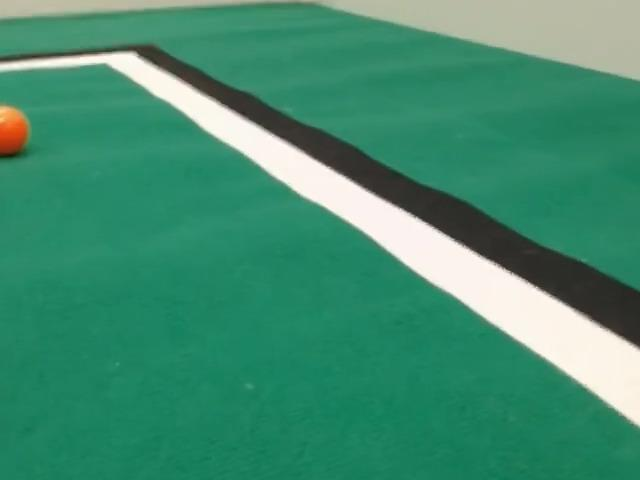Ball: (0, 106, 30, 156)
